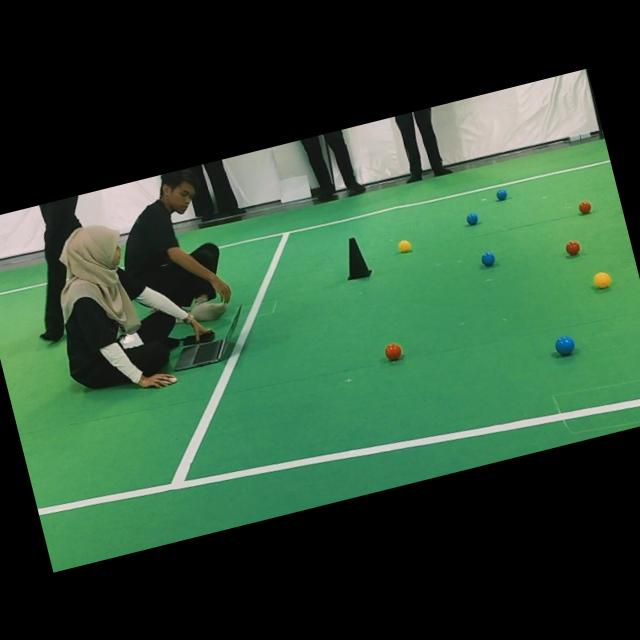ball: (554, 335, 575, 355), (385, 342, 402, 360), (593, 271, 611, 288), (565, 240, 580, 255), (481, 252, 495, 266), (398, 239, 411, 253), (466, 212, 478, 225), (578, 200, 590, 213), (496, 189, 507, 200)
